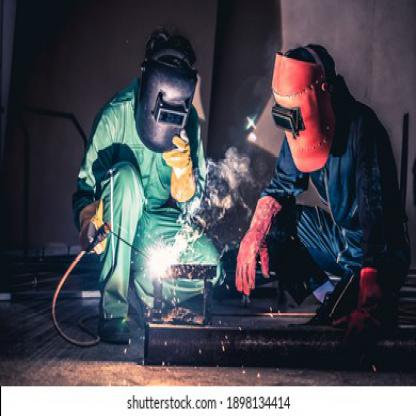with_gloves: (233, 196, 284, 291), (334, 266, 386, 346), (162, 129, 197, 201)
